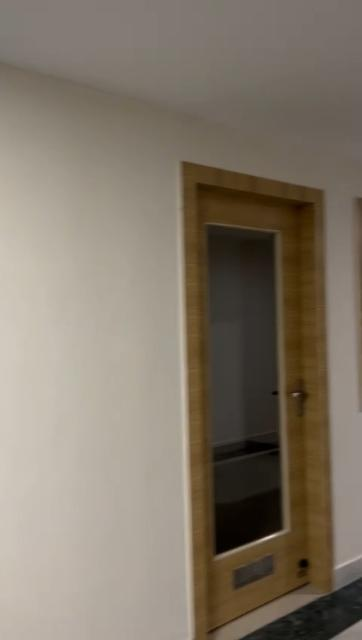door: (179, 163, 328, 615)
floor: (221, 580, 362, 640)
wall: (7, 71, 176, 633), (338, 164, 362, 554), (174, 108, 354, 156)
